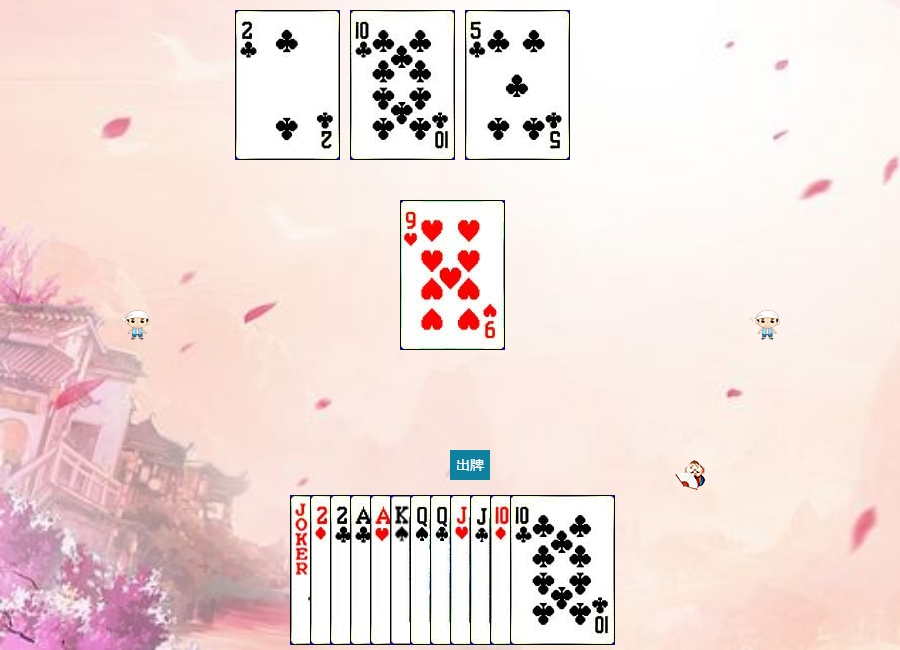10~1: (490, 495, 595, 645)
10~2: (350, 10, 455, 160), (510, 495, 615, 645)
11~2: (470, 495, 575, 645)
11~3: (450, 495, 555, 645)
12~2: (430, 495, 535, 645)
12~4: (410, 495, 515, 645)
13~4: (390, 495, 495, 645)
14~2: (350, 495, 455, 645)
14~3: (370, 495, 475, 645)
15~1: (310, 495, 415, 645)
15~2: (235, 10, 340, 160), (330, 495, 435, 645)
18~4: (290, 495, 395, 645)
5~2: (465, 10, 570, 160)
9~3: (400, 200, 505, 350)
